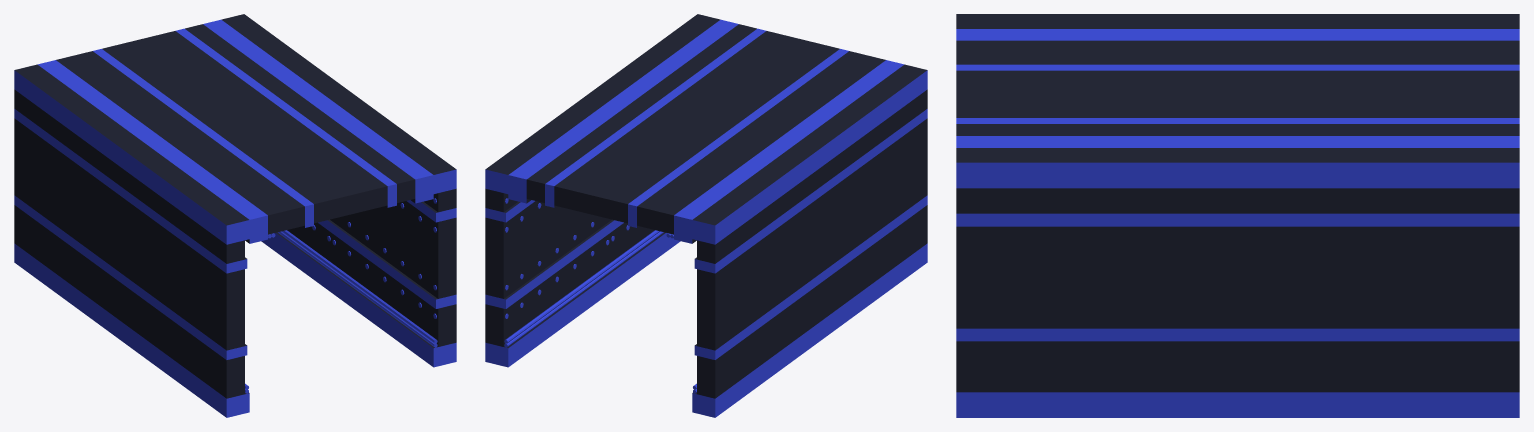
File: Tunnel Collection.fbx
3 renders of one model, left to right at view 1: azimuth 30°, elevation 25°; view 2: azimuth 150°, elevation 25°; view 3: azimuth 270°, elevation 25°, orthographic. The views are drawn at different scales.
Parts seen in each view (by area): view 1: 1x2_Tunnel.031, 1x2_Tunnel.155, 1x2_Tunnel.062, 1x2_Tunnel, 1x2_Tunnel.124, 1x2_Tunnel.093, 1x2_Tunnel.126, 1x2_Tunnel.125; view 2: 1x2_Tunnel.062, 1x2_Tunnel, 1x2_Tunnel.031, 1x2_Tunnel.155, 1x2_Tunnel.093, 1x2_Tunnel.124, 1x2_Tunnel.095, 1x2_Tunnel.094; view 3: 1x2_Tunnel.093, 1x2_Tunnel.124, 1x2_Tunnel, 1x2_Tunnel.155, 1x2_Tunnel.031, 1x2_Tunnel.062.
Part boxes in pixels (left/top/right/bottom): 1x2_Tunnel.031: left=120, top=142, right=249, bottom=417; 1x2_Tunnel.155: left=144, top=97, right=433, bottom=243; 1x2_Tunnel.062: left=14, top=64, right=142, bottom=339; 1x2_Tunnel: left=37, top=19, right=326, bottom=141; 1x2_Tunnel.124: left=327, top=91, right=456, bottom=367; 1x2_Tunnel.093: left=221, top=14, right=349, bottom=289; 1x2_Tunnel.126: left=328, top=262, right=437, bottom=343; 1x2_Tunnel.125: left=328, top=266, right=437, bottom=347; 1x2_Tunnel.062: left=692, top=142, right=821, bottom=417; 1x2_Tunnel: left=508, top=97, right=797, bottom=243; 1x2_Tunnel.031: left=799, top=64, right=927, bottom=339; 1x2_Tunnel.155: left=615, top=19, right=904, bottom=141; 1x2_Tunnel.093: left=485, top=91, right=614, bottom=367; 1x2_Tunnel.124: left=592, top=14, right=720, bottom=289; 1x2_Tunnel.095: left=504, top=262, right=613, bottom=343; 1x2_Tunnel.094: left=504, top=266, right=613, bottom=347; 1x2_Tunnel.093: left=1238, top=148, right=1519, bottom=417; 1x2_Tunnel.124: left=956, top=148, right=1237, bottom=417; 1x2_Tunnel: left=1238, top=29, right=1519, bottom=147; 1x2_Tunnel.155: left=956, top=29, right=1237, bottom=147; 1x2_Tunnel.031: left=956, top=14, right=1237, bottom=28; 1x2_Tunnel.062: left=1238, top=14, right=1519, bottom=28.
Bounding box in the file's own units: 250 × 200 × 400.
